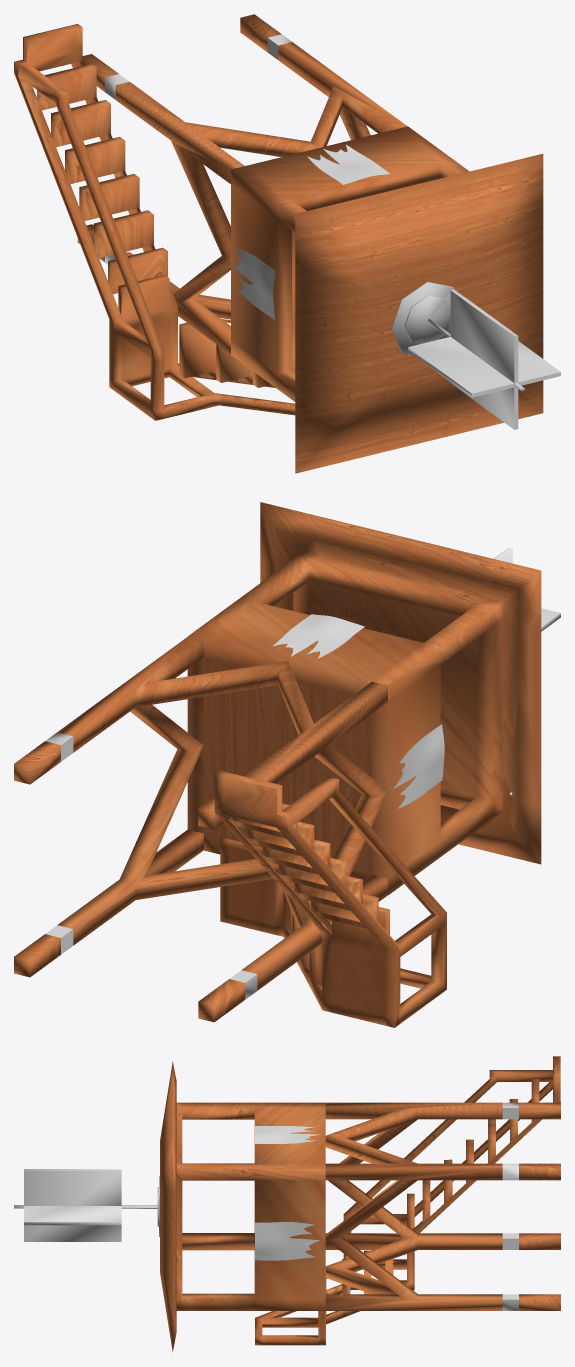
3 views of the same model, one above another, from view 1: azimuth 30°, elevation 25°; view 2: azimuth 150°, elevation 25°; view 3: azimuth 270°, elevation 25° (orthographic). The views are drawn at different scales.
Parts seen in each view (by area): view 1: Box01_None, Box03_None, Box02_None, Base_Color, Cylinder03_None, Cylinder02_None; view 2: Box01_None, Box02_None, Box03_None, Base_Color; view 3: Box01_None, Box02_None, Base_Color, Box03_None.
Part boxes in pixels (<box>): Box01_None: <box>231,126,543,473</box>; Box03_None: <box>14,23,295,420</box>; Box02_None: <box>77,14,407,354</box>; Base_Color: <box>105,34,560,429</box>; Cylinder03_None: <box>404,295,450,343</box>; Cylinder02_None: <box>391,282,454,355</box>; Box01_None: <box>187,502,541,895</box>; Box02_None: <box>14,637,387,1022</box>; Box03_None: <box>214,770,446,1027</box>; Base_Color: <box>45,547,560,999</box>; Box01_None: <box>160,1061,325,1352</box>; Box02_None: <box>325,1102,560,1310</box>; Base_Color: <box>24,1102,518,1310</box>; Box03_None: <box>255,1056,560,1345</box>.
Bounding box in the file's own units: 111 × 108 × 247.
1 material, 1 textured.
